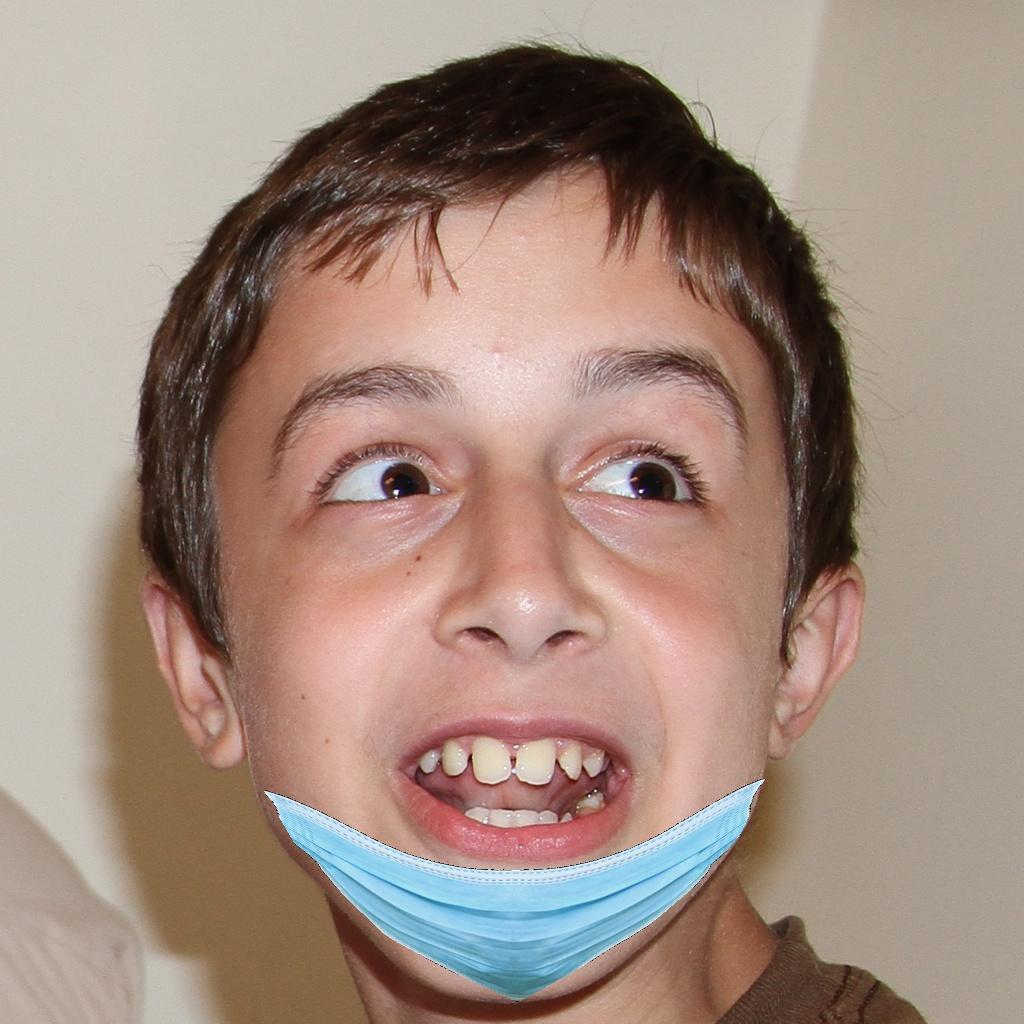Máscara Incorreta: (242, 322, 768, 977)
